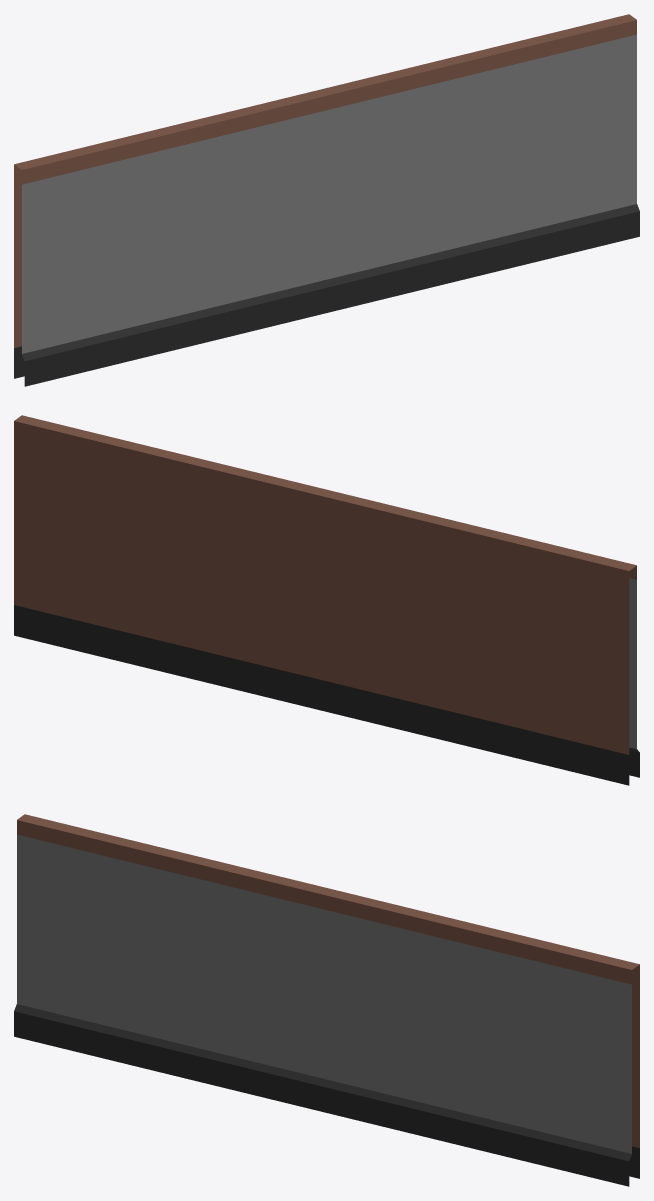
Rendered from Wall333.fbx.
3 renders of one model, top to bottom at view 1: azimuth 30°, elevation 25°; view 2: azimuth 150°, elevation 25°; view 3: azimuth 330°, elevation 25°, orthographic.
Parts seen in each view (by area): view 1: Box012; view 2: Box012; view 3: Box012.
Boxes of the visible parts, x1,y1,x2,y2 form: Box012: (14, 14, 639, 386); Box012: (14, 415, 639, 785); Box012: (14, 814, 639, 1186).
Size of the model in its own units: 900 by 300 by 27.18.
